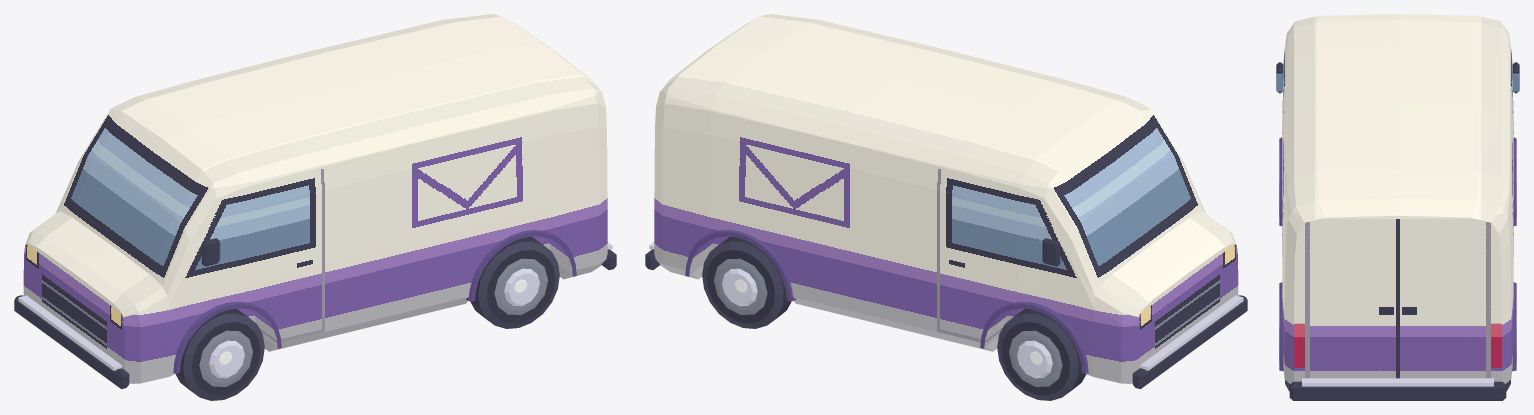
3 views of the same model, side by side, from view 1: azimuth 30°, elevation 25°; view 2: azimuth 150°, elevation 25°; view 3: azimuth 270°, elevation 25° (orthographic).
Parts seen in each view (by area): view 1: Body_static, Wheel_RL_tire_hub, Wheel_FL_tire_hub; view 2: Body_static, Wheel_RR_tire_hub, Wheel_FR_tire_hub; view 3: Body_static.
Part boxes in pixels (x1=…): Body_static: x1=14, y1=14, x2=616, y2=388; Wheel_RL_tire_hub: x1=470, y1=236, x2=559, y2=328; Wheel_FL_tire_hub: x1=175, y1=308, x2=264, y2=400; Body_static: x1=645, y1=14, x2=1247, y2=388; Wheel_RR_tire_hub: x1=702, y1=236, x2=791, y2=328; Wheel_FR_tire_hub: x1=997, y1=308, x2=1085, y2=400; Body_static: x1=1276, y1=14, x2=1519, y2=400.
Size of the model in its own units: 87.04 by 38.72 by 36.61.
1 material, 1 textured.
